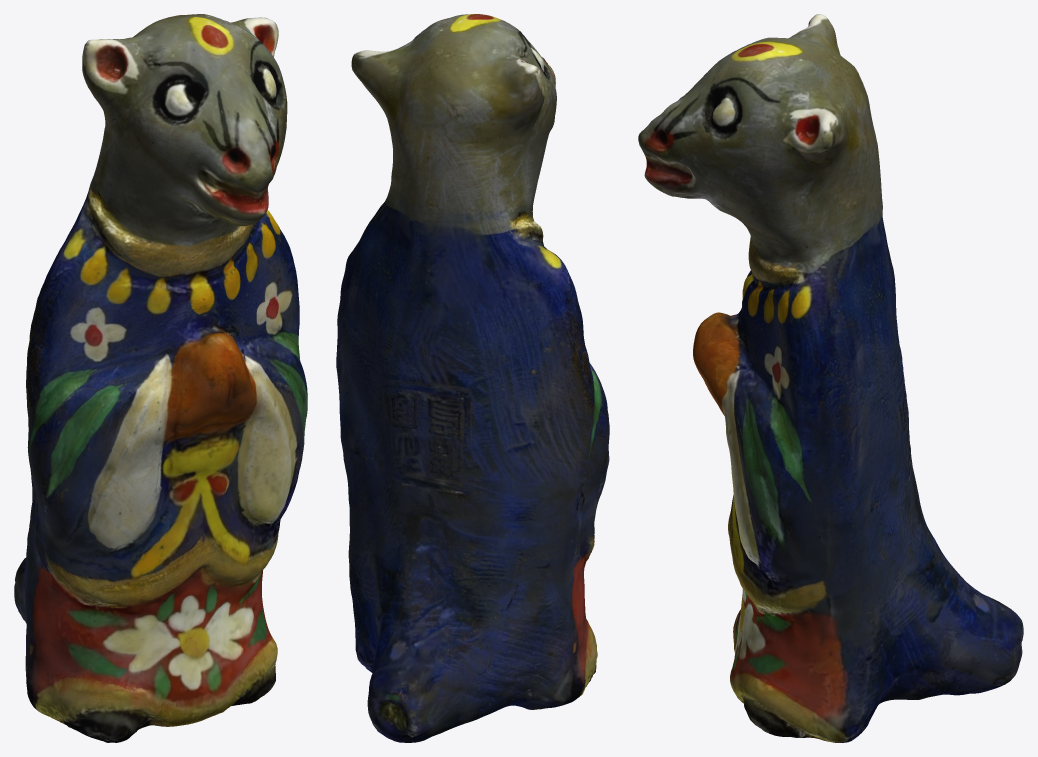
3 views of the same model, side by side, from view 1: azimuth 30°, elevation 25°; view 2: azimuth 150°, elevation 25°; view 3: azimuth 270°, elevation 25° (orthographic). The views are drawn at different scales.
Size of the model in its own units: 0.2572 by 0.6303 by 0.3309.
Materials: 1 (1 with a texture image).
